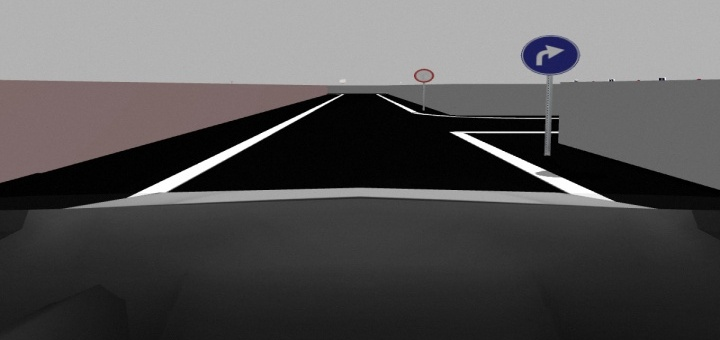girilmez: (412, 69, 434, 83)
saga_don: (518, 34, 581, 77)
